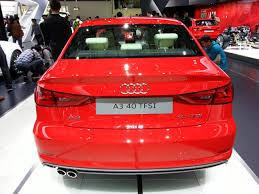non-ambulance: (34, 18, 235, 177), (0, 41, 21, 76), (189, 18, 220, 39)
